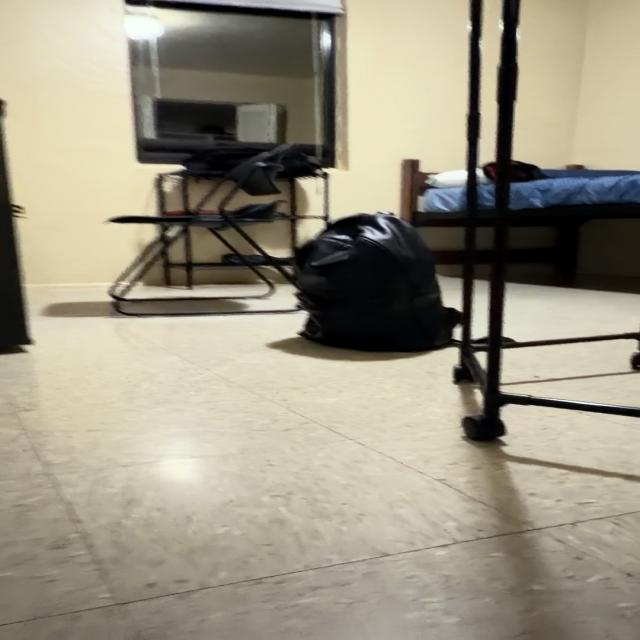backpack: (295, 213, 459, 351)
